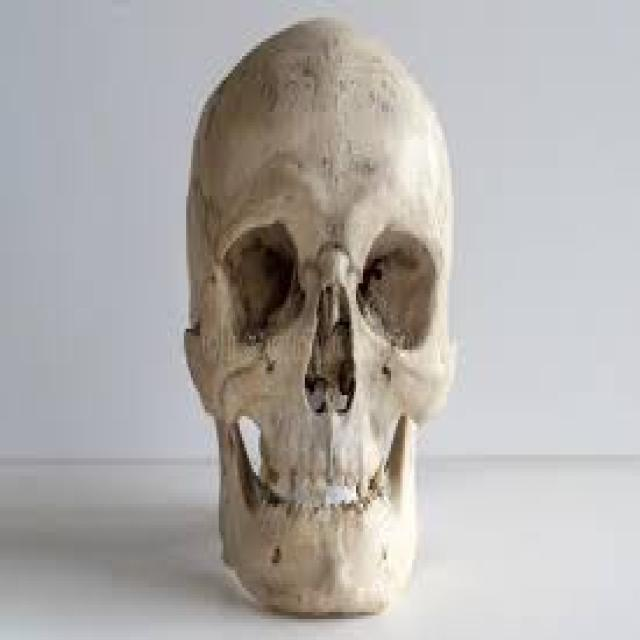skull: (173, 0, 472, 640)
